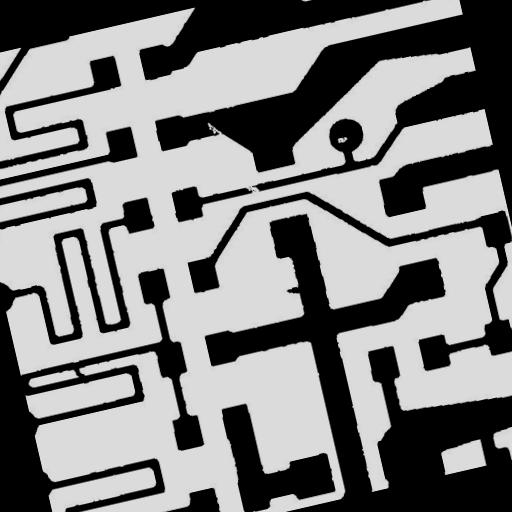mousebite: (198, 111, 231, 147)
open: (236, 174, 269, 206)
pin-hole: (328, 127, 357, 152)
short: (63, 356, 94, 388)
spur: (278, 276, 312, 305)
